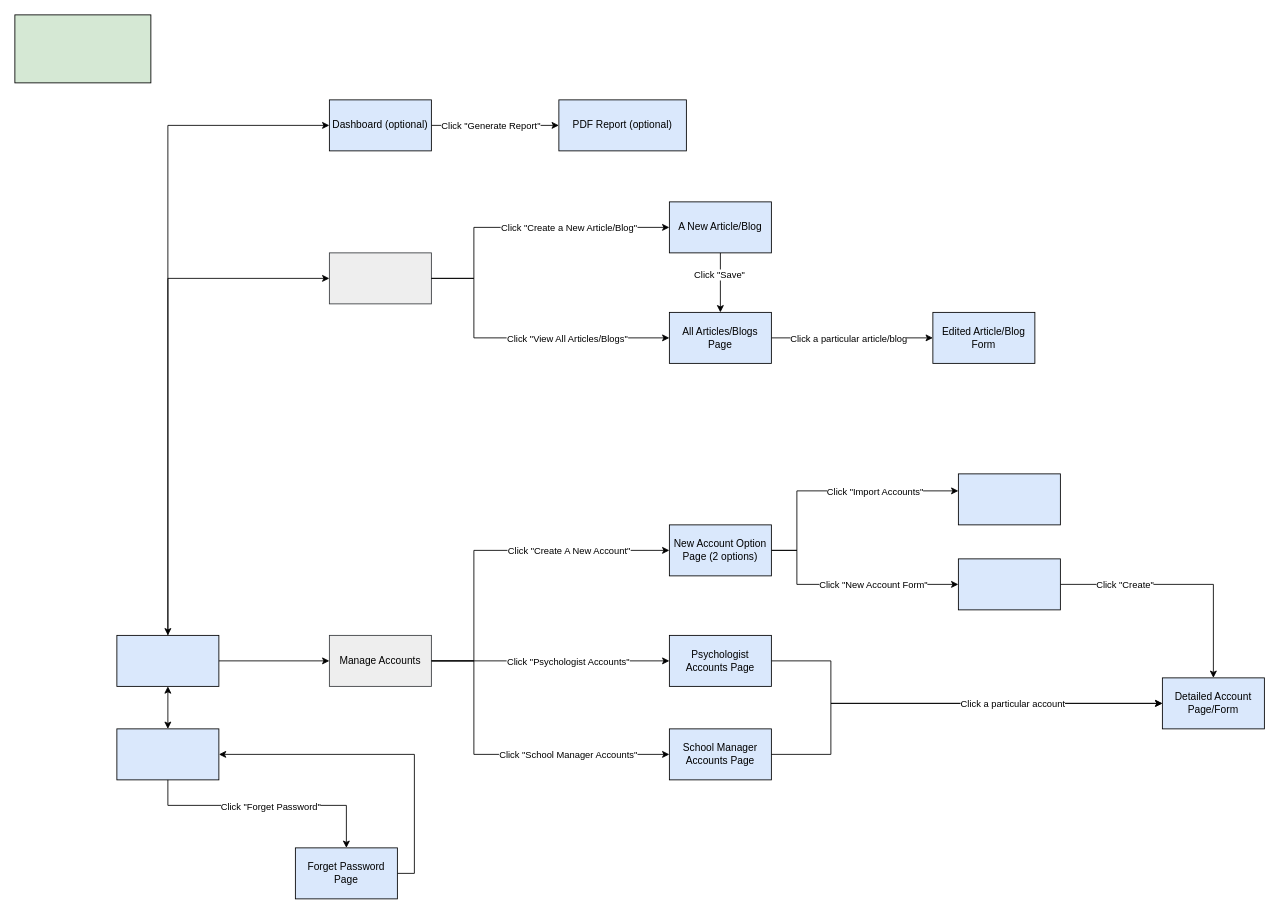
This 1279x914 diagram has some shape labels left out. Each missing label, with the centre of its shape:
A New Account Page: the point at 1009,584
ADMIN: the point at 82,48
Home Page: the point at 167,660
Imported New Accounts Page: the point at 1009,499
Login Page: the point at 167,754
Manage Articles/Blog Posts: the point at 380,278
